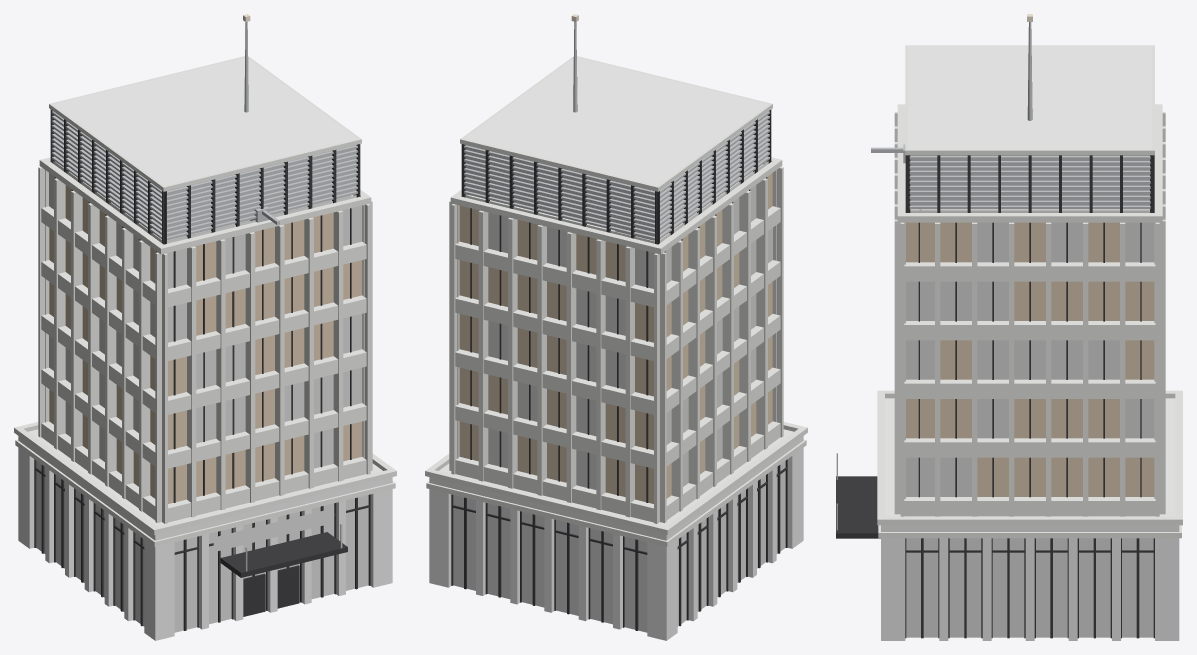
The model's file is office_w60f7.glb.
The picture shows the model from 3 angles, left to right: view 1: azimuth 30°, elevation 25°; view 2: azimuth 150°, elevation 25°; view 3: azimuth 270°, elevation 25°; orthographic projection. The views are drawn at different scales.
Parts seen in each view (by area): view 1: office_w60f7_Walls, office_w60f7_WindowsLit, office_w60f7_Roof, office_w60f7_Glass, office_w60f7_Walls2, office_w60f7_Frames, office_w60f7_Details, office_w60f7_Trim, office_w60f7_Accent, office_w60f7_Brand; view 2: office_w60f7_Walls, office_w60f7_WindowsLit, office_w60f7_Roof, office_w60f7_Glass, office_w60f7_Walls2, office_w60f7_Frames, office_w60f7_Details, office_w60f7_Trim; view 3: office_w60f7_Walls, office_w60f7_WindowsLit, office_w60f7_Roof, office_w60f7_Glass, office_w60f7_Trim, office_w60f7_Details, office_w60f7_Walls2, office_w60f7_Frames, office_w60f7_Accent.
Part boxes in pixels (x1,y1,x2,y2): office_w60f7_Walls: [38, 161, 372, 523]; office_w60f7_WindowsLit: [36, 173, 368, 632]; office_w60f7_Roof: [28, 57, 382, 526]; office_w60f7_Glass: [49, 185, 362, 503]; office_w60f7_Walls2: [18, 436, 392, 640]; office_w60f7_Frames: [34, 109, 370, 630]; office_w60f7_Details: [52, 21, 357, 571]; office_w60f7_Trim: [14, 56, 396, 546]; office_w60f7_Accent: [220, 532, 347, 577]; office_w60f7_Brand: [213, 508, 334, 551]; office_w60f7_Walls: [449, 161, 783, 523]; office_w60f7_WindowsLit: [453, 185, 785, 632]; office_w60f7_Roof: [439, 57, 793, 526]; office_w60f7_Glass: [459, 173, 772, 503]; office_w60f7_Walls2: [429, 436, 803, 640]; office_w60f7_Frames: [451, 109, 787, 630]; office_w60f7_Details: [464, 21, 769, 240]; office_w60f7_Trim: [425, 56, 807, 546]; office_w60f7_Walls: [894, 112, 1165, 516]; office_w60f7_WindowsLit: [906, 222, 1154, 637]; office_w60f7_Roof: [885, 46, 1175, 516]; office_w60f7_Glass: [906, 222, 1154, 496]; office_w60f7_Trim: [877, 45, 1182, 538]; office_w60f7_Details: [836, 22, 1150, 530]; office_w60f7_Walls2: [881, 525, 1179, 640]; office_w60f7_Frames: [905, 155, 1154, 638]; office_w60f7_Accent: [836, 476, 880, 538].
Bounding box in the file's own units: 61.4 × 130 × 69.7.
